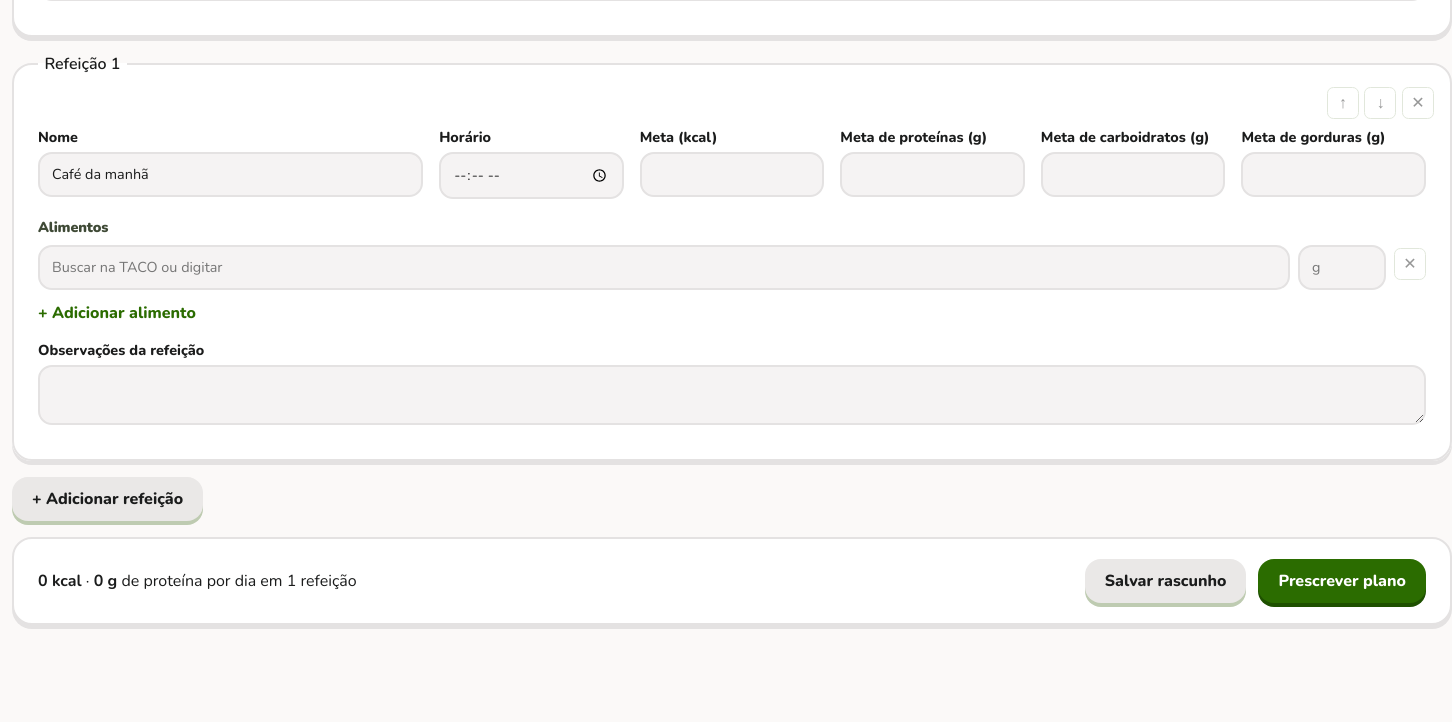
PlanBuilderPage - blocos e alimentos › move e remove blocos; o ultimo bloco nao pode ser removido
(page scrolled)
What coordinates should you click on to do the following:
click the button "+ Adicionar refeição"
I would click on:
 (108, 499)
Its box is [12,477,203,521].
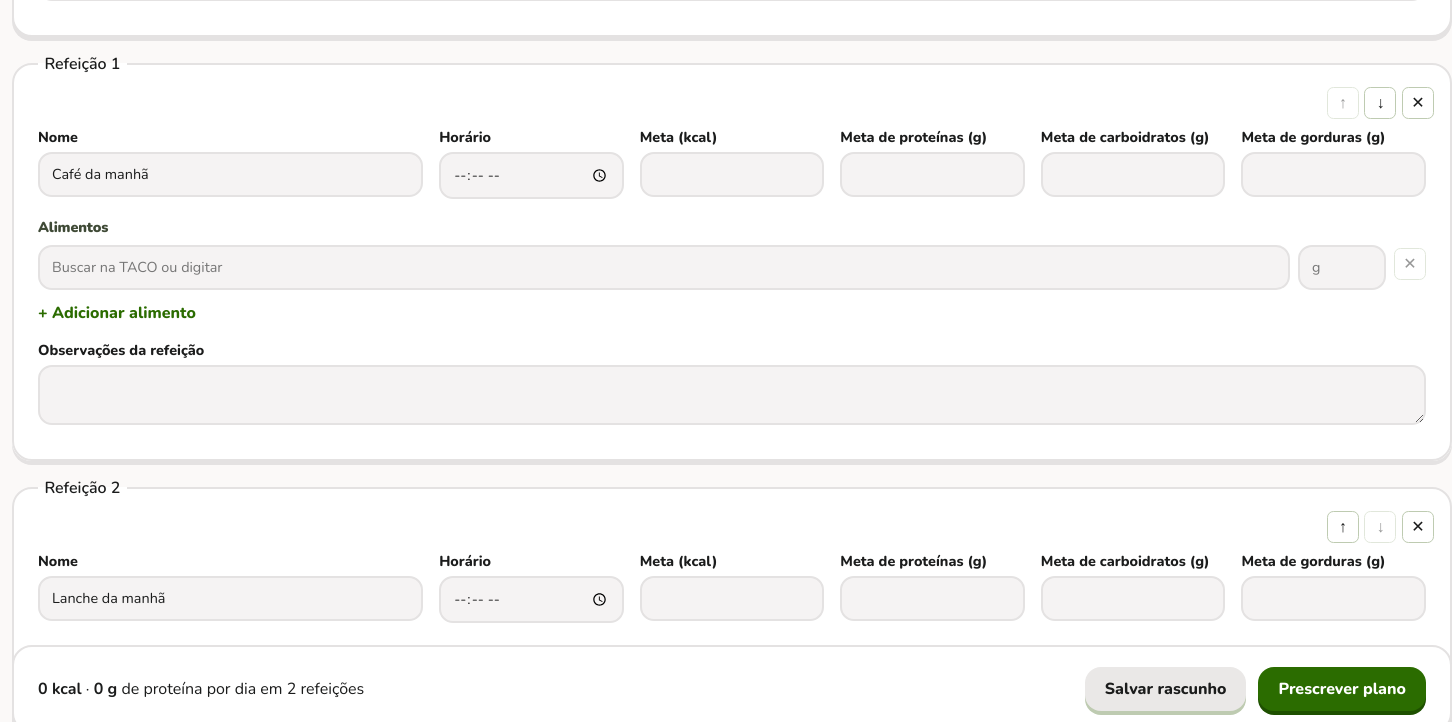
Expected: the button named "Mover Café da manhã para cima" is disabled, [1327,87,1359,119]
What coordinates should you click on to do the following:
click the button named "Mover Café da manhã para baixo"
I would click on:
 (1380, 103)
Its box is [1364,87,1396,119].
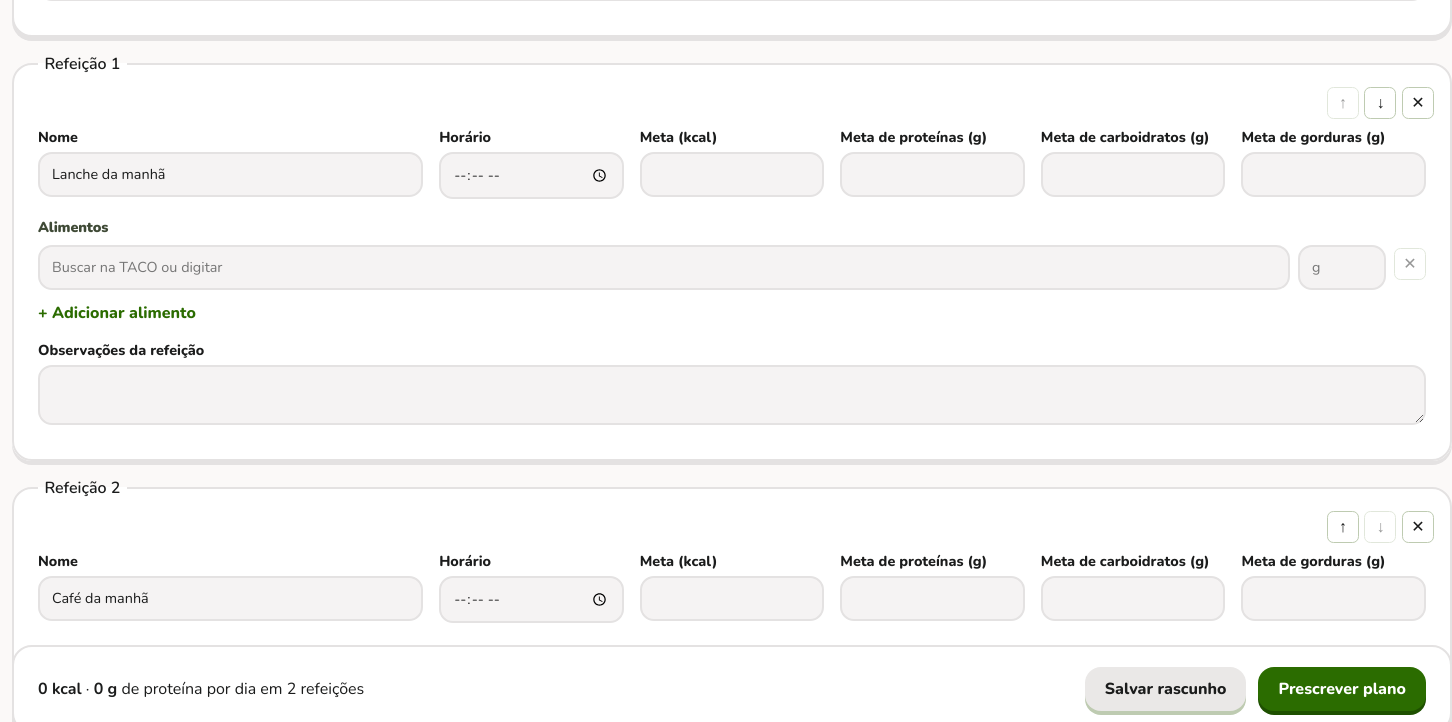
Expected: the 2nd field labelled "Nome" holds "Café da manhã", [38,576,423,621]
What coordinates should you click on to do the following:
click the button named "Remover Lanche da manhã"
I would click on:
 (1418, 103)
Its box is [1402,87,1434,119].
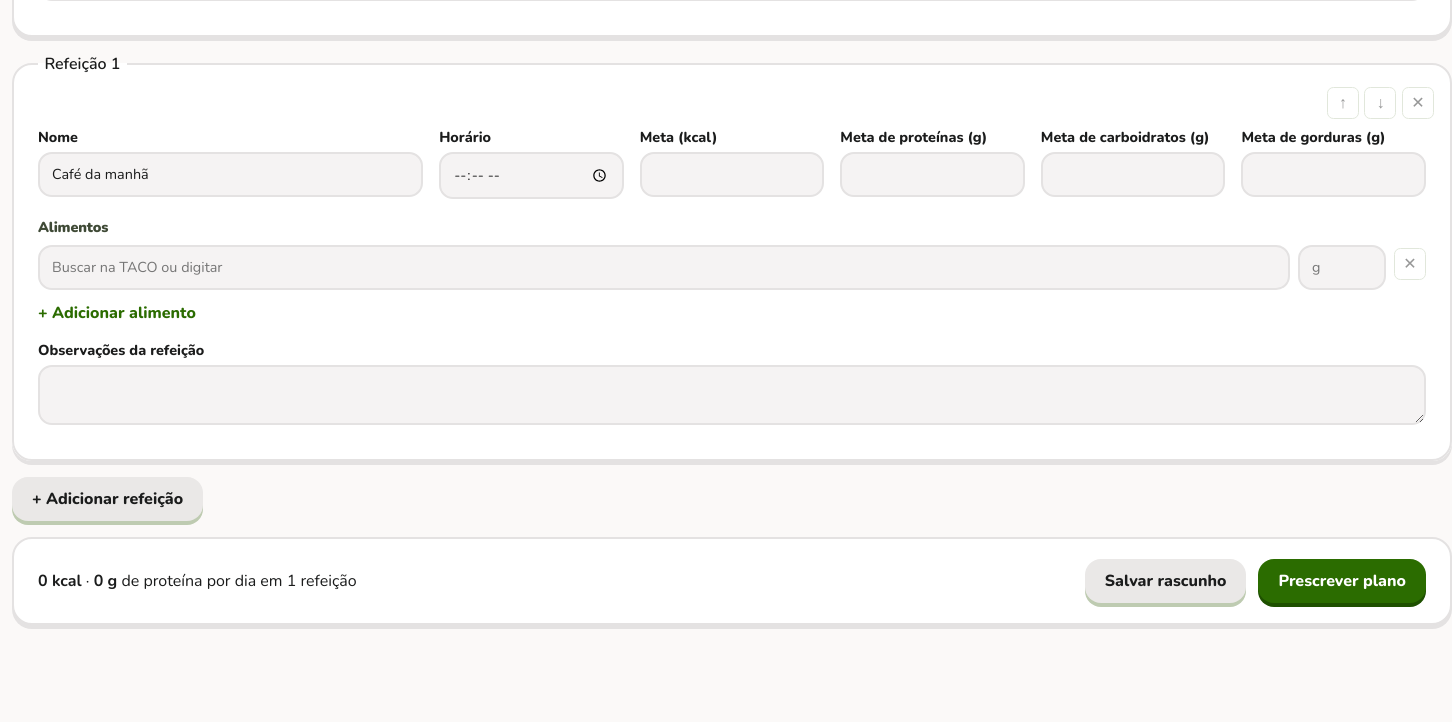
Expected: the text "Refeição 2" is gone
Expected: the button named "Remover Café da manhã" is disabled, [1402,87,1434,119]
